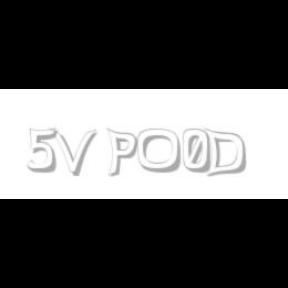0: (182, 128, 214, 174)
5: (26, 128, 58, 174)
D: (204, 128, 246, 178)
O: (138, 128, 182, 174)
P: (106, 128, 138, 178)
V: (49, 128, 97, 176)
